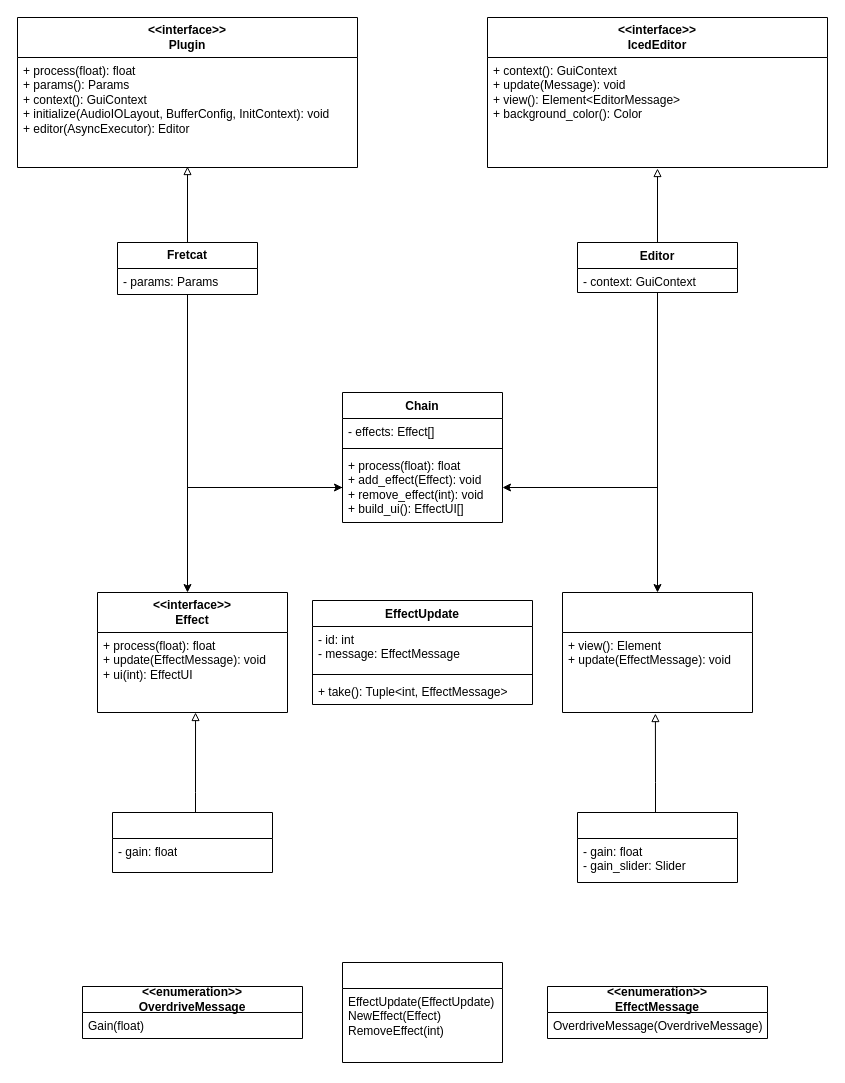
Image size: 845x1083. Some labels were removed from this diagram. The box of each missing label's shape, as (x1, y1, x2, y2) in pixels:
<<enumeration>> EditorMessage: (342, 962, 502, 1062)
<<interface>> EffectUI: (562, 592, 752, 712)
OverdriveEffect: (112, 812, 272, 872)
OverdriveUI: (576, 812, 738, 882)
